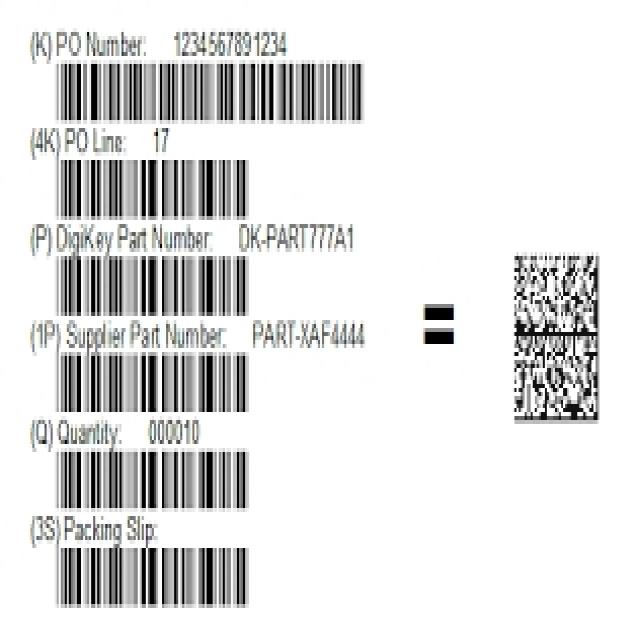DataMatrix: (508, 228, 608, 432)
